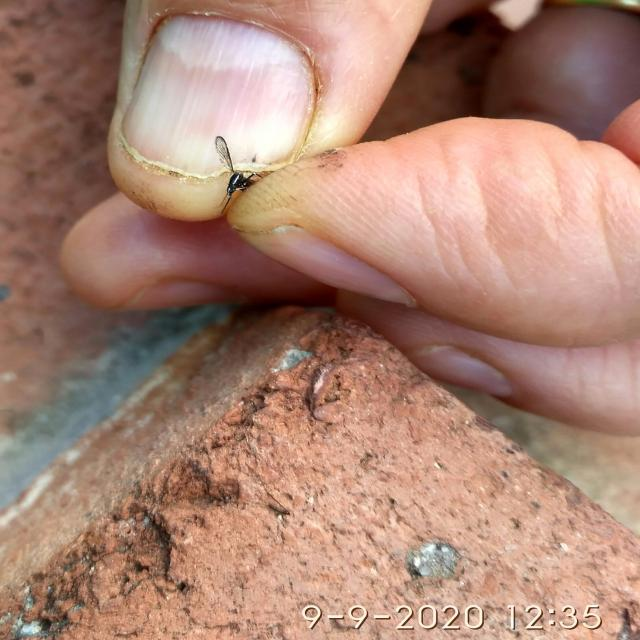albopictus: (206, 137, 271, 214)
